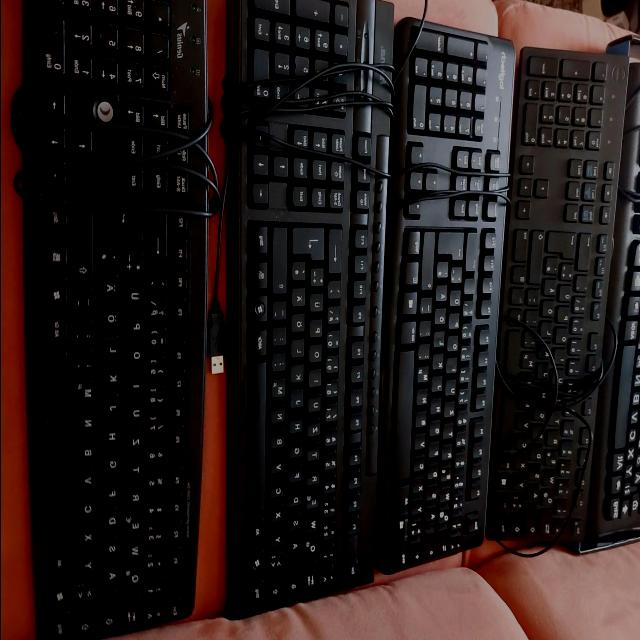keyboard: (22, 0, 208, 640), (225, 0, 395, 623), (376, 16, 516, 576), (483, 45, 631, 545), (586, 61, 640, 537)
